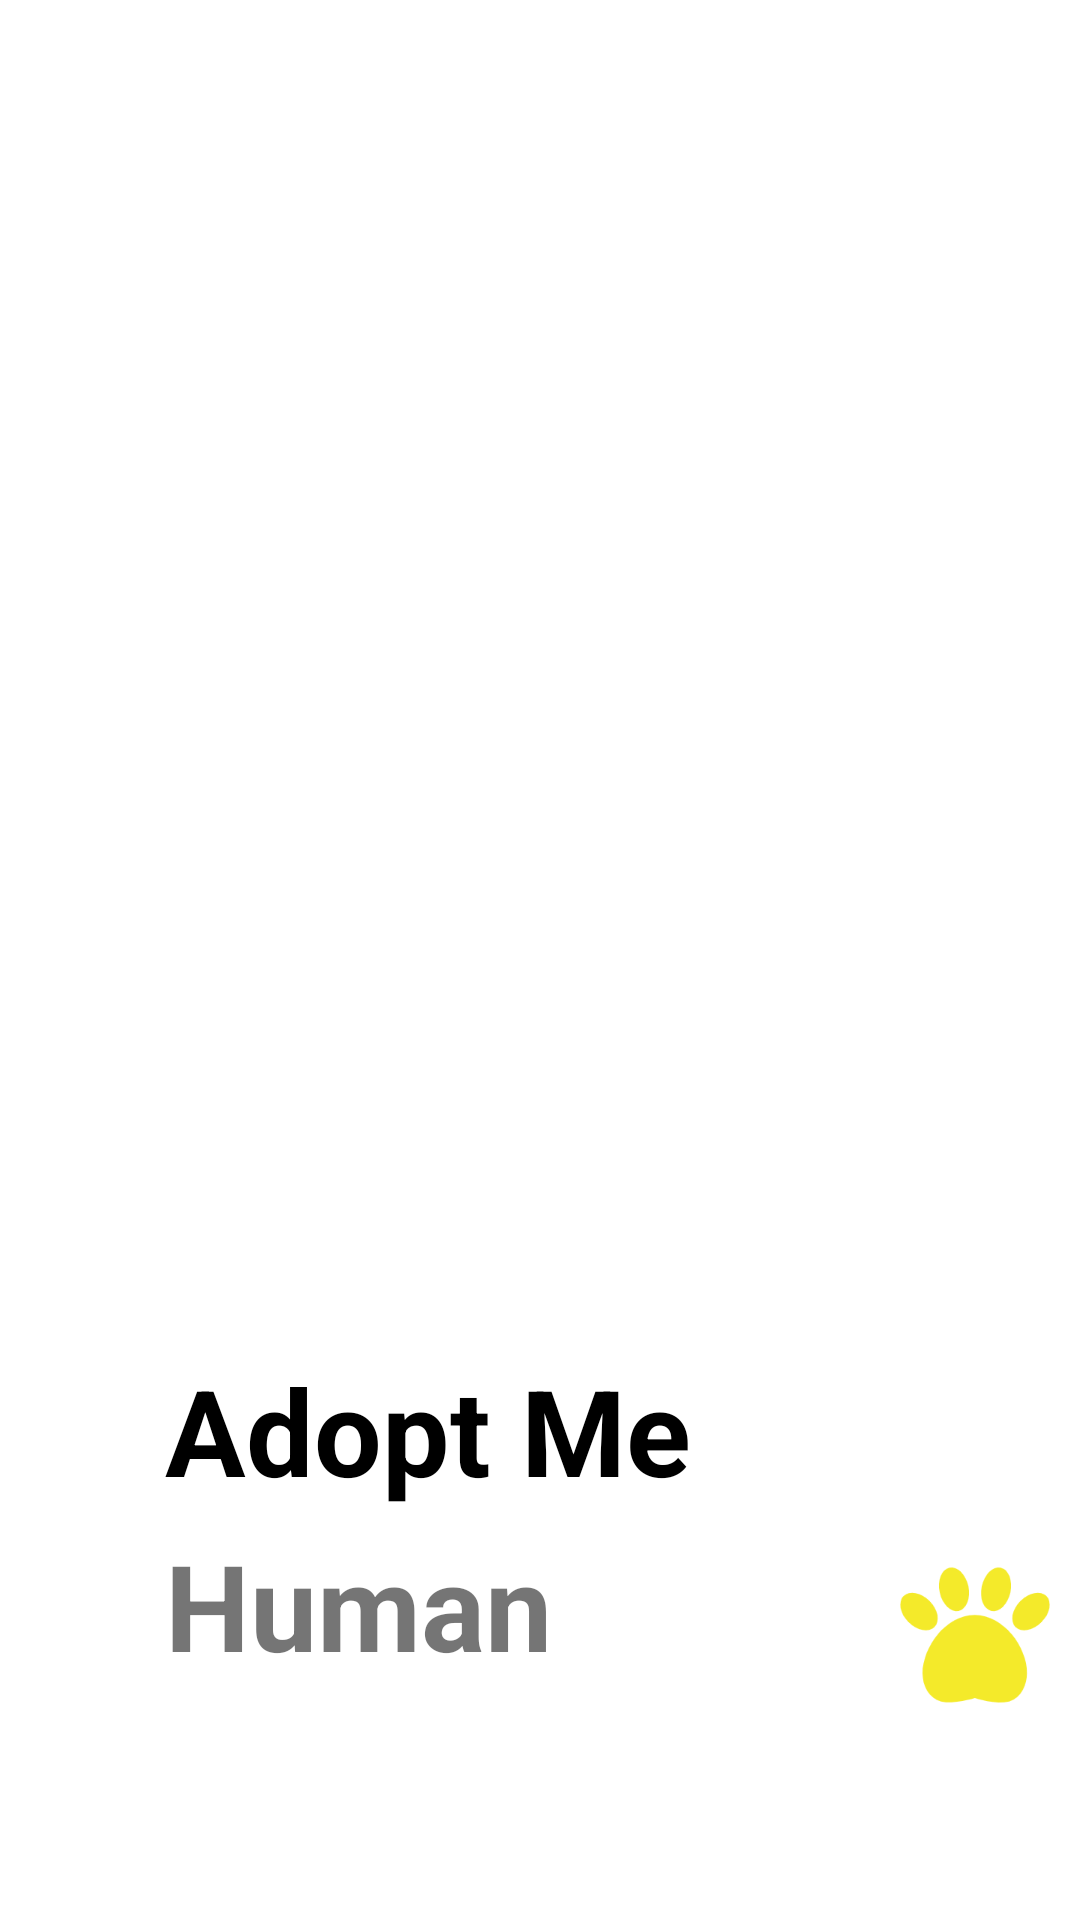

Where to tap for icons on this 1080px x 1920px app screen, as [x,y]:
paw: [975,1635]
